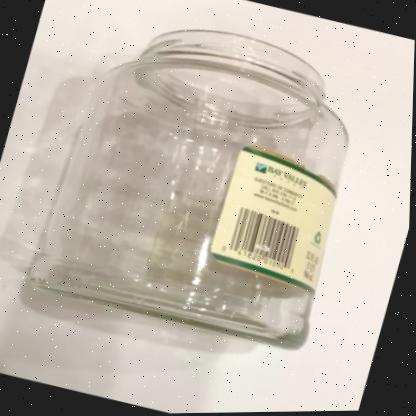Glass: (31, 30, 350, 351)
